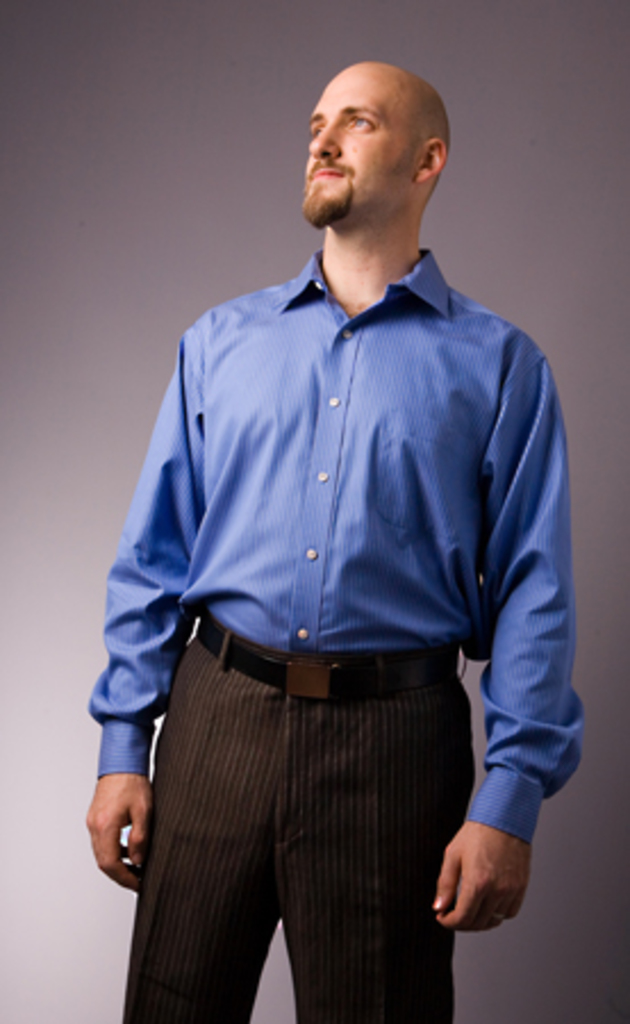Human_hand: (428, 772, 531, 937), (78, 744, 170, 911)
